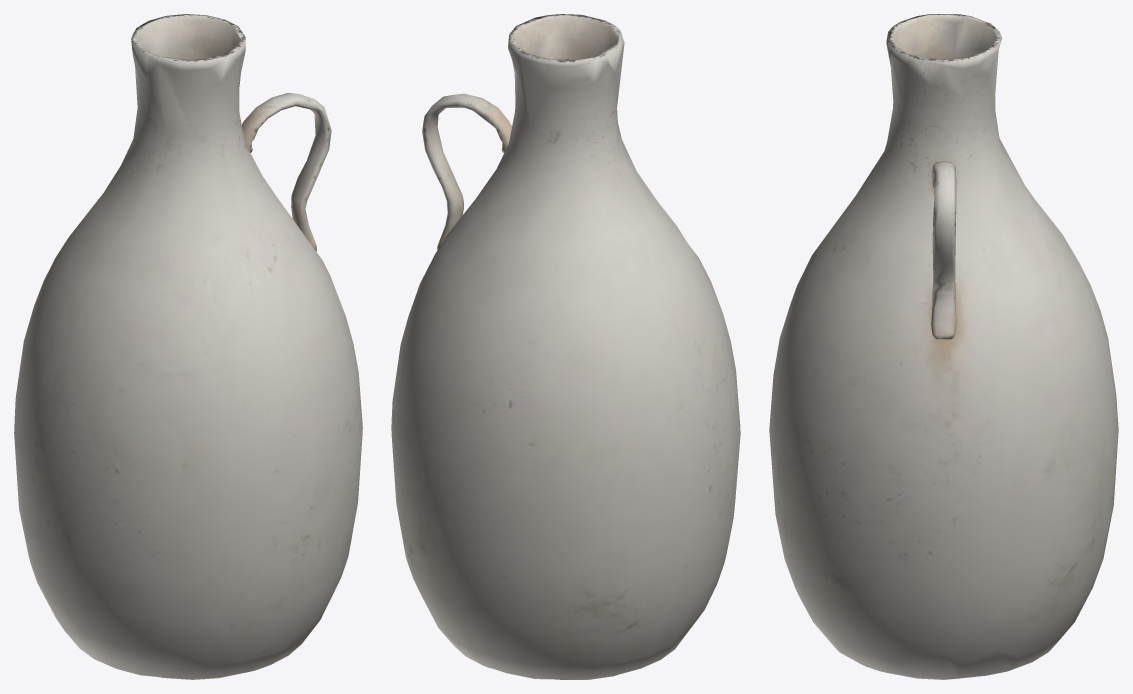
Rendered from ceramic_vase_04.glb.
3 renders of one model, left to right at view 1: azimuth 30°, elevation 25°; view 2: azimuth 150°, elevation 25°; view 3: azimuth 270°, elevation 25°, orthographic.
Parts seen in each view (by area): view 1: ceramic_vase_04; view 2: ceramic_vase_04; view 3: ceramic_vase_04.
Boxes of the visible parts, bbox=[...] form: ceramic_vase_04: bbox=[14, 14, 362, 679]; ceramic_vase_04: bbox=[391, 14, 740, 679]; ceramic_vase_04: bbox=[769, 14, 1118, 679].
Bounding box in the file's own units: 0.1811 × 0.341 × 0.1811.
Materials: 1 (1 with a texture image).
